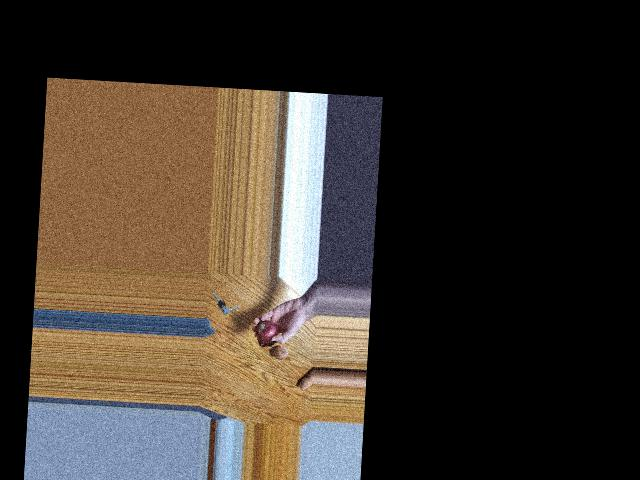onion: (274, 344, 290, 362)
